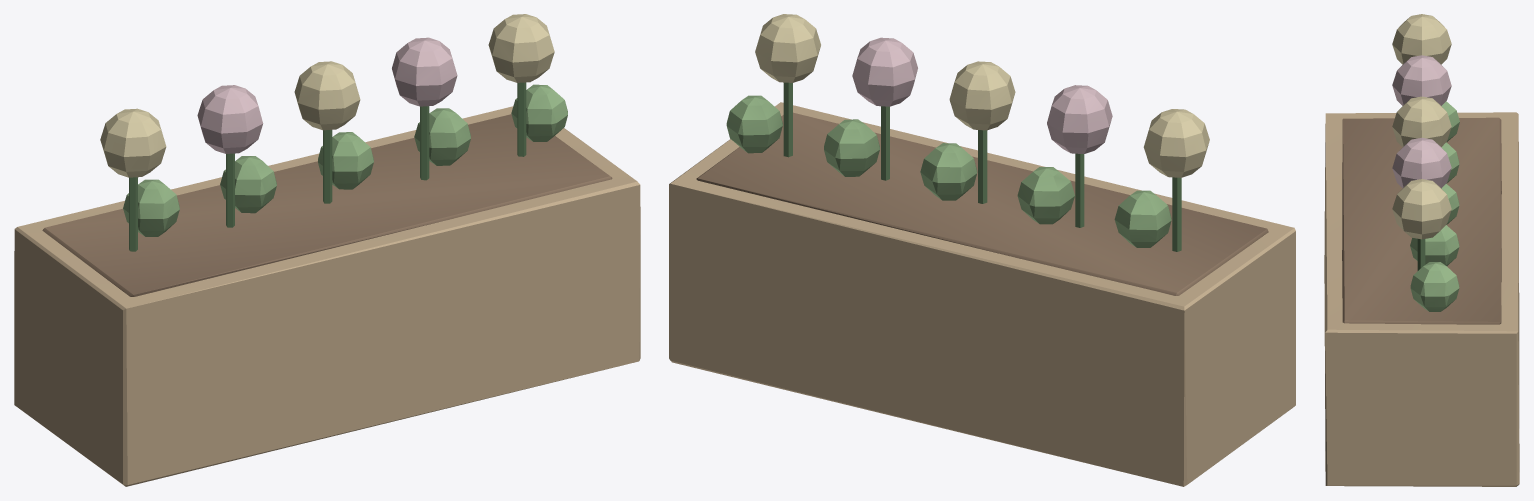
File: furn_planter_box__oak_low.glb
The picture shows the model from 3 angles, left to right: view 1: azimuth 30°, elevation 25°; view 2: azimuth 150°, elevation 25°; view 3: azimuth 270°, elevation 25°; orthographic projection. The views are drawn at different scales.
Size of the model in its own units: 1.2 by 0.71 by 0.45.
